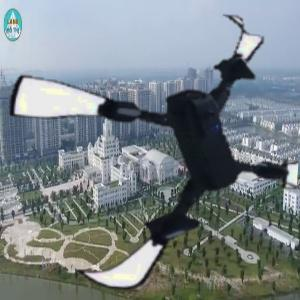drone: (5, 2, 300, 298)
